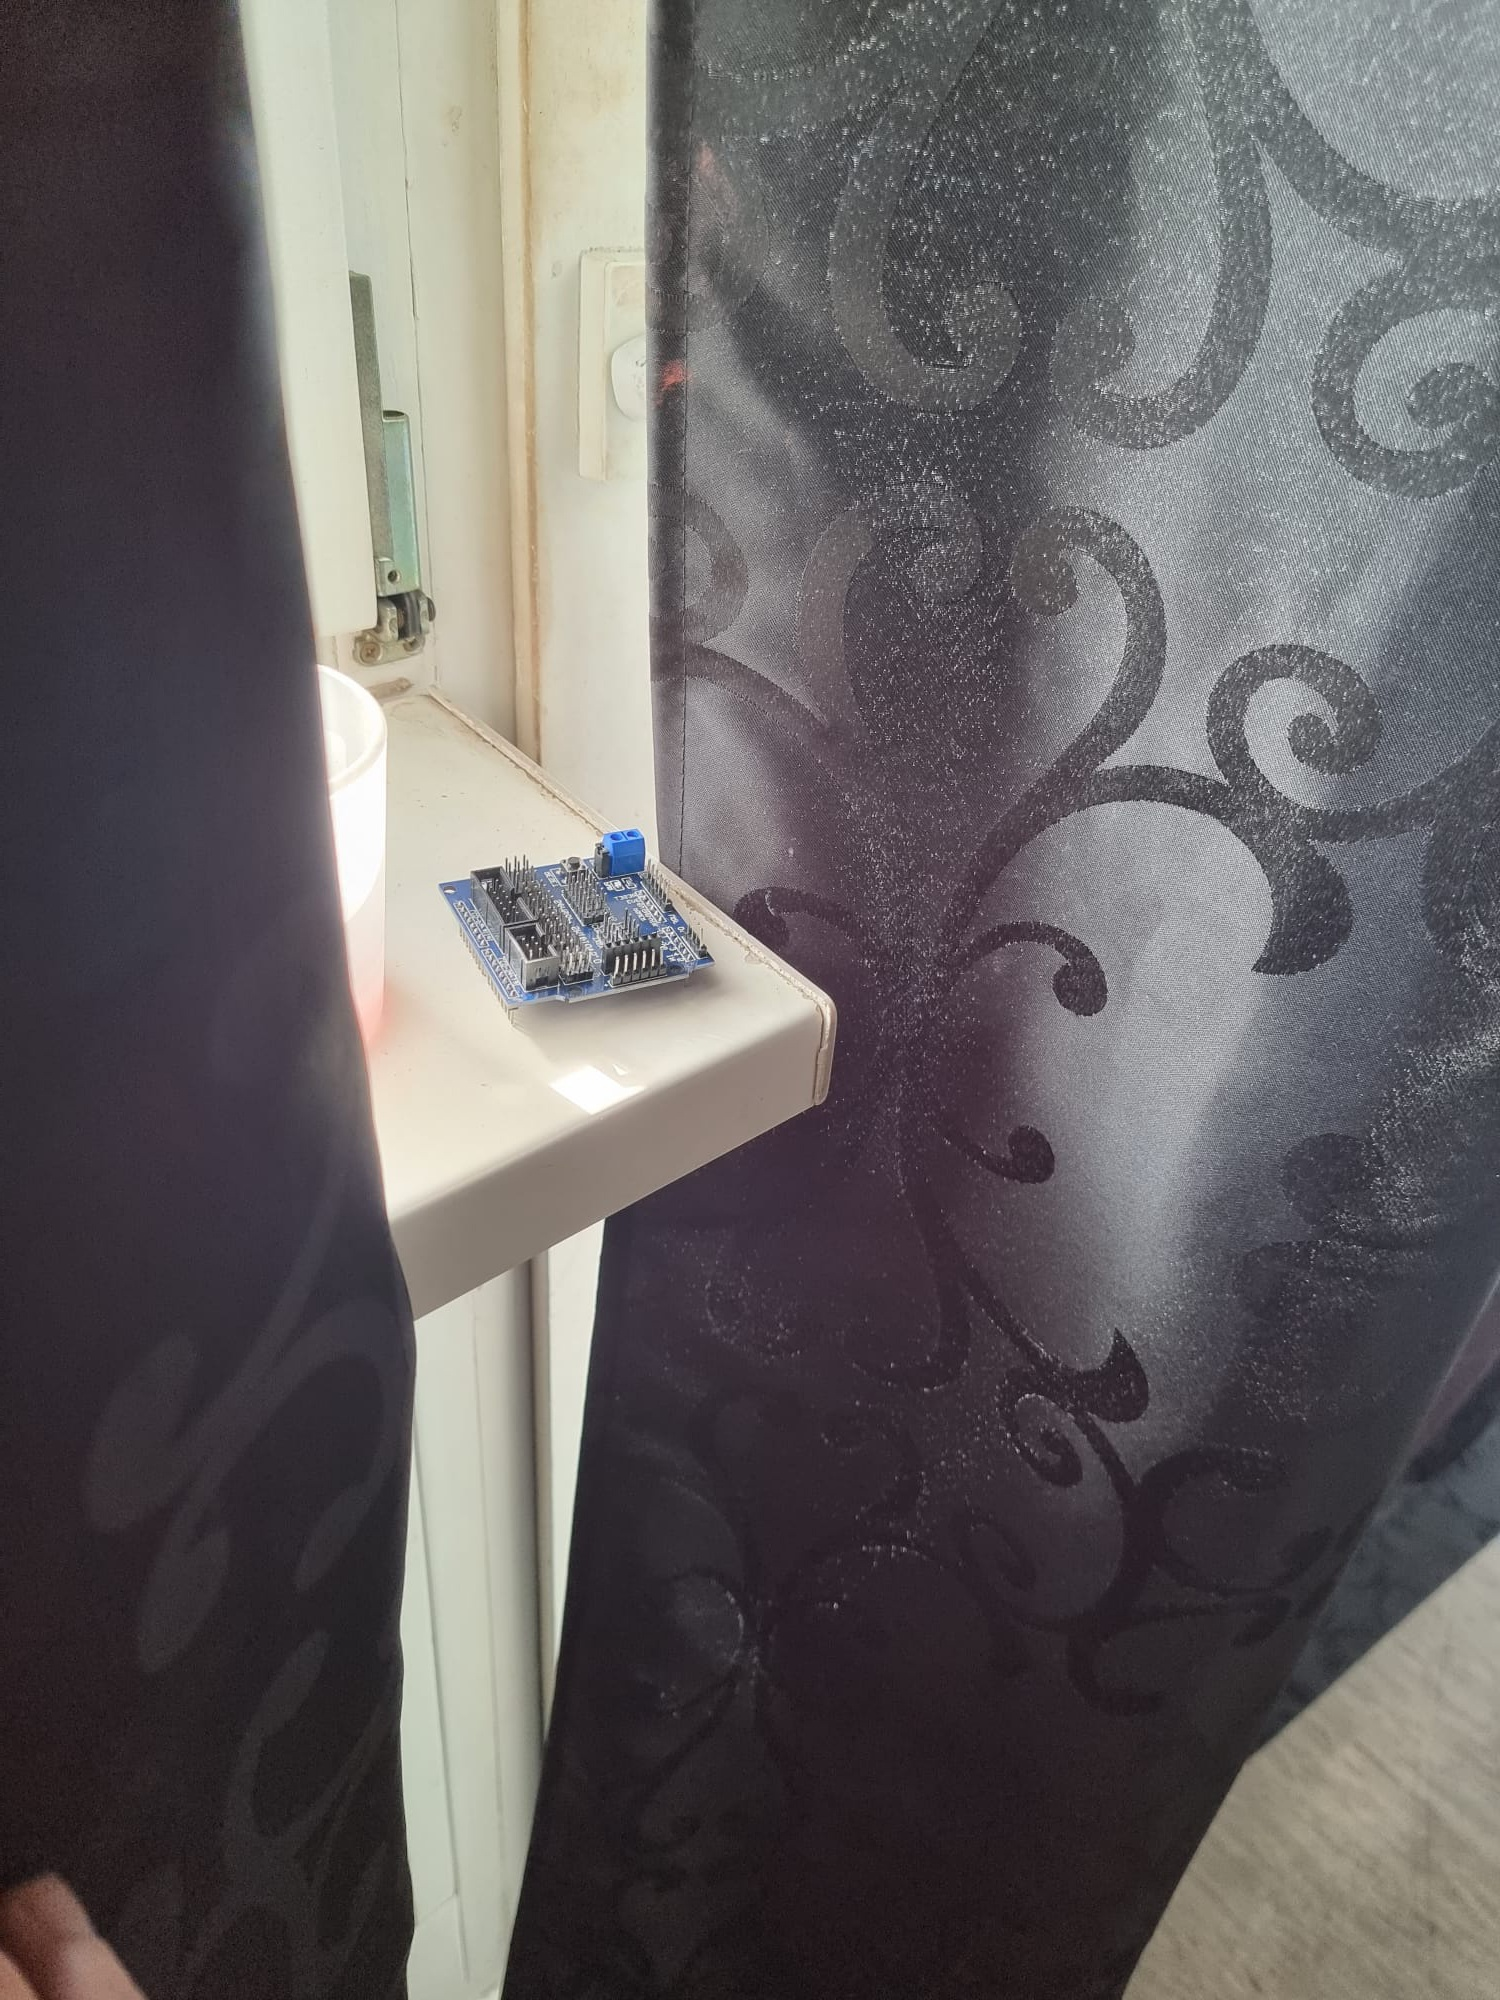5V EXPANSION: (440, 820, 701, 1024)
